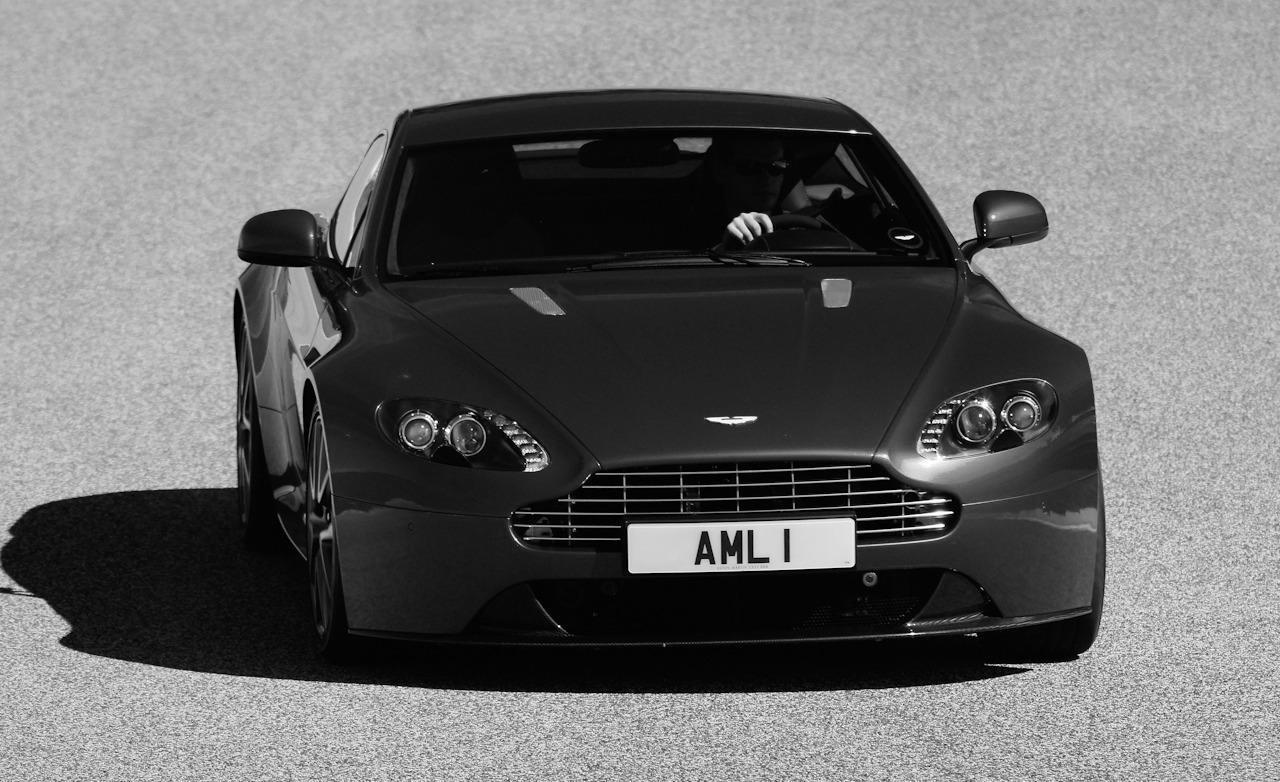car: (224, 89, 1114, 688)
